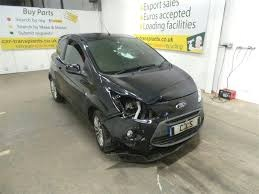Broken-glass: (109, 90, 156, 124), (109, 42, 136, 61)
Dent: (119, 127, 148, 152)
